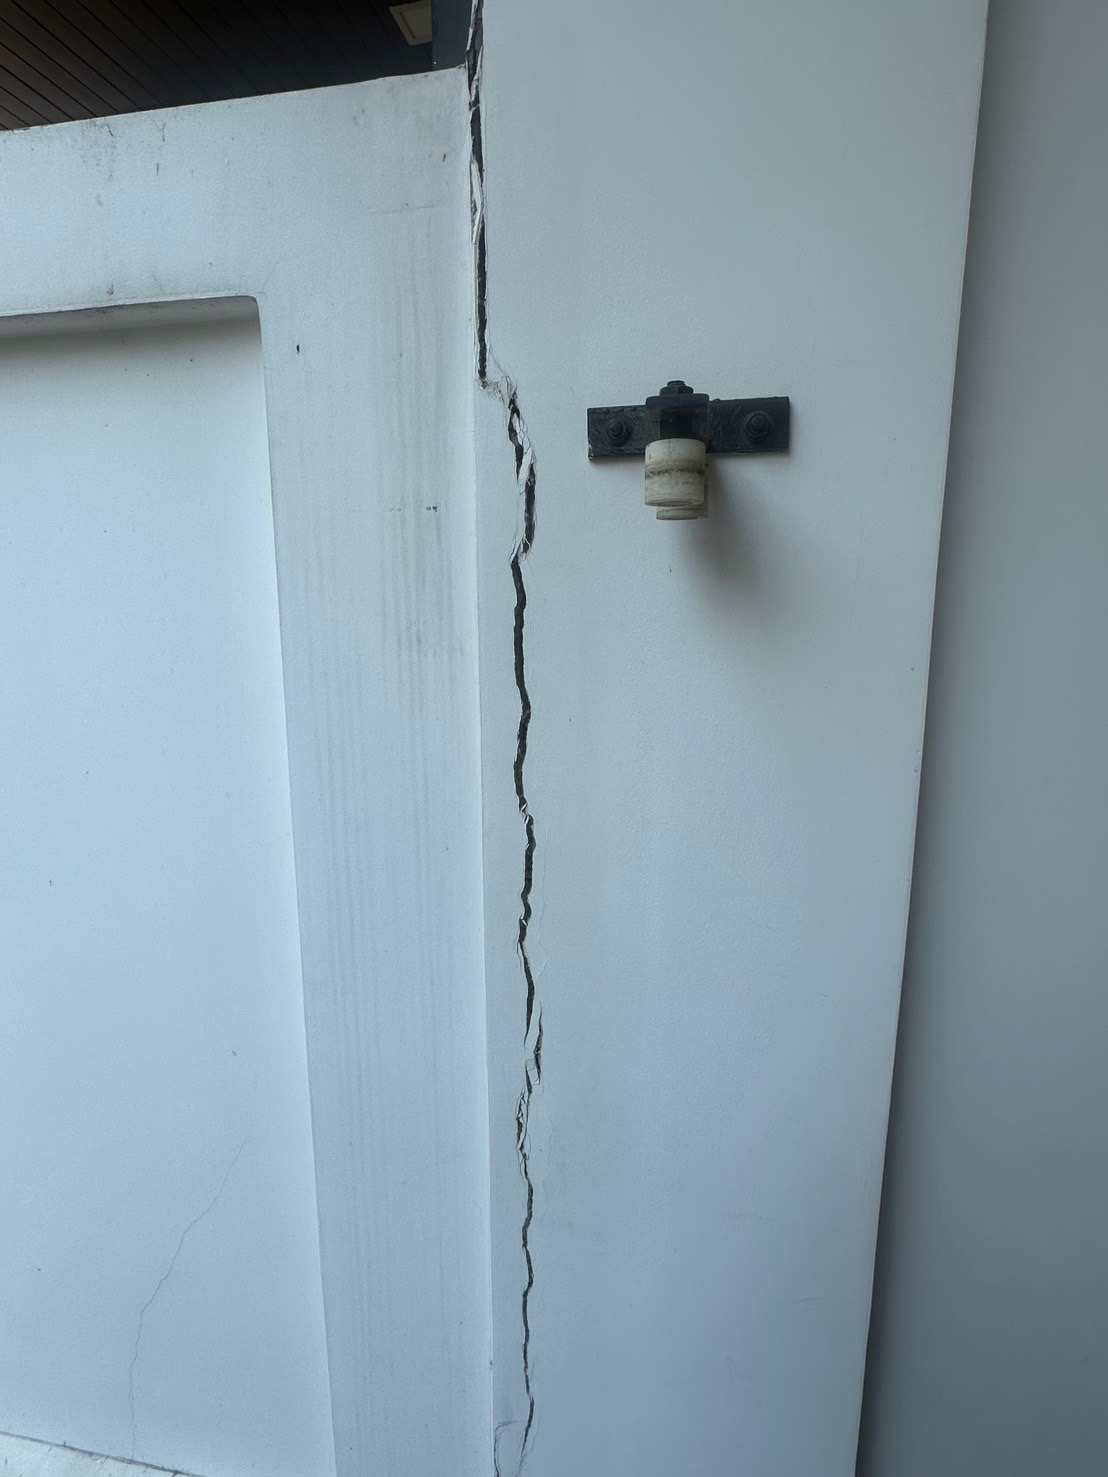Medium: (436, 248, 578, 1191)
